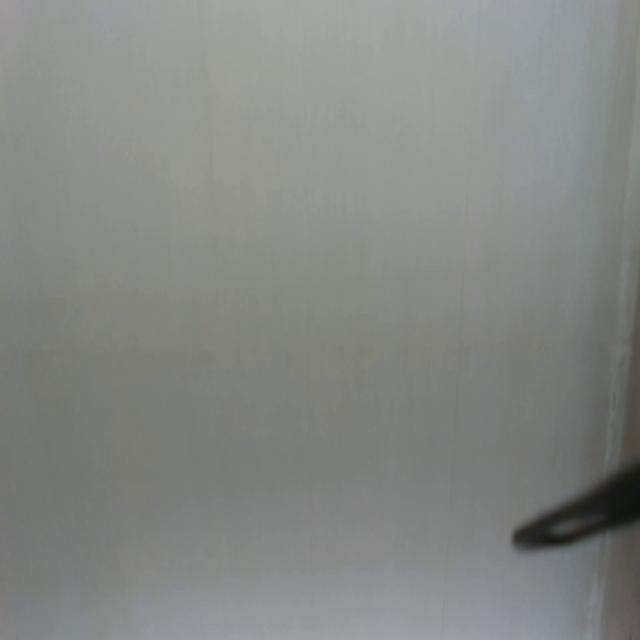crease: (438, 196, 469, 640)
